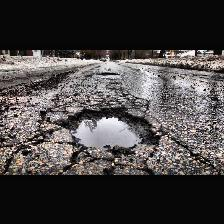pothole: (56, 105, 164, 157), (98, 72, 118, 74)
